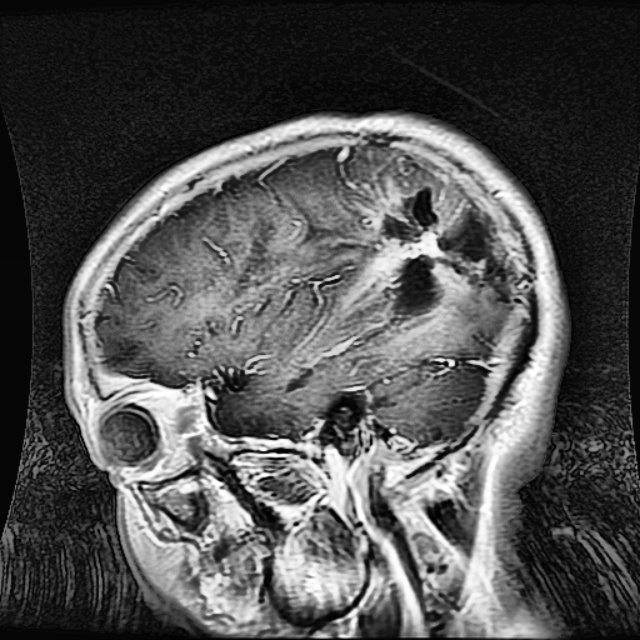Meningioma: (382, 185, 510, 313)
